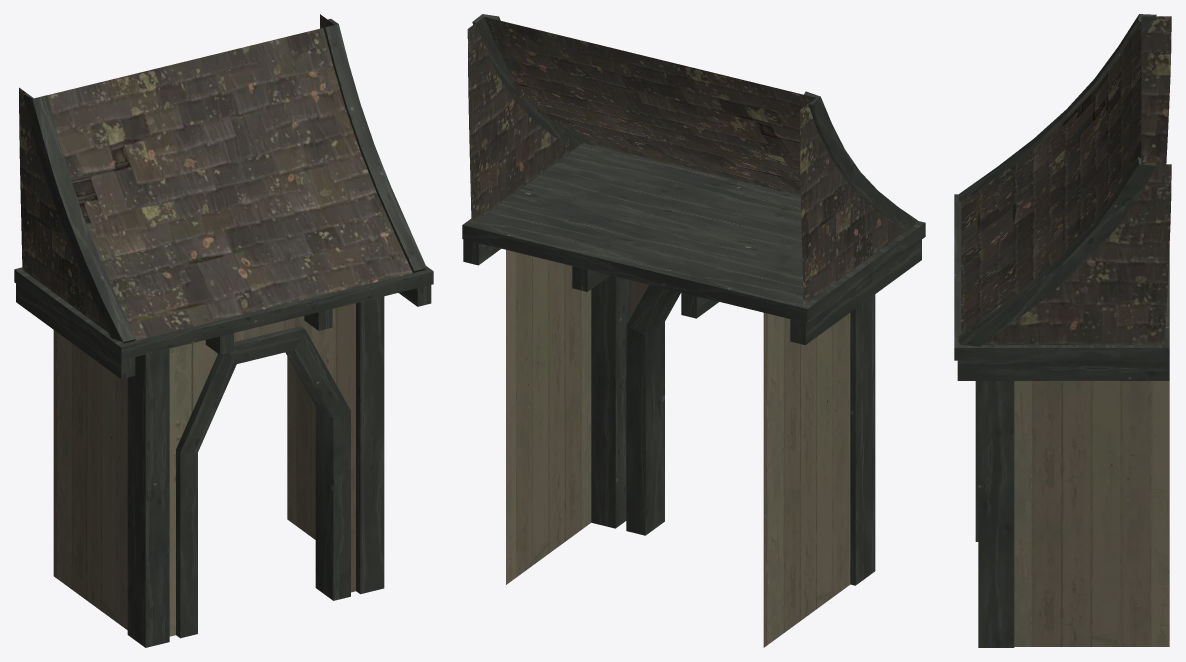
File: df_gate.glb
The picture shows the model from 3 angles, left to right: view 1: azimuth 30°, elevation 25°; view 2: azimuth 150°, elevation 25°; view 3: azimuth 270°, elevation 25°; orthographic projection. The views are drawn at different scales.
Visible parts, largest first — view 1: KB3D_DKF_Gate_A_Main; view 2: KB3D_DKF_Gate_A_Main; view 3: KB3D_DKF_Gate_A_Main.
Part boxes in pixels (bbox=[...]): KB3D_DKF_Gate_A_Main: bbox=[14, 14, 433, 647]; KB3D_DKF_Gate_A_Main: bbox=[462, 14, 925, 647]; KB3D_DKF_Gate_A_Main: bbox=[954, 14, 1171, 647].
Size of the model in its own units: 2.68 by 4.08 by 1.6.
3 materials, 3 textured.
